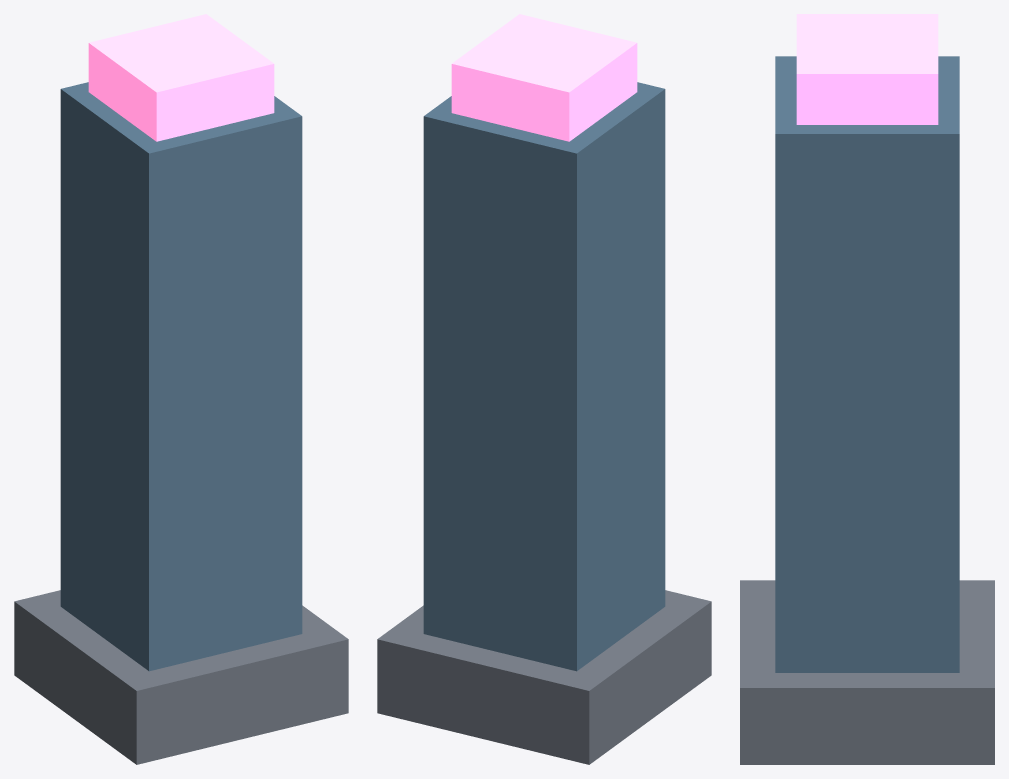
Rendered from skyscraper.glb.
3 views of the same model, side by side, from view 1: azimuth 30°, elevation 25°; view 2: azimuth 150°, elevation 25°; view 3: azimuth 270°, elevation 25° (orthographic). The views are drawn at different scales.
Visible parts, largest first — view 1: tower, podium, crown; view 2: tower, podium, crown; view 3: tower, podium, crown.
Boxes of the visible parts, left/top/right/bottom form: tower: left=60, top=82, right=302, bottom=671; podium: left=14, top=590, right=348, bottom=764; crown: left=88, top=14, right=274, bottom=141; tower: left=423, top=82, right=665, bottom=671; podium: left=377, top=590, right=711, bottom=764; crown: left=451, top=14, right=637, bottom=141; tower: left=775, top=56, right=959, bottom=672; podium: left=740, top=580, right=994, bottom=764; crown: left=796, top=14, right=938, bottom=124.
Bounding box in the file's own units: 18 × 52 × 18.
